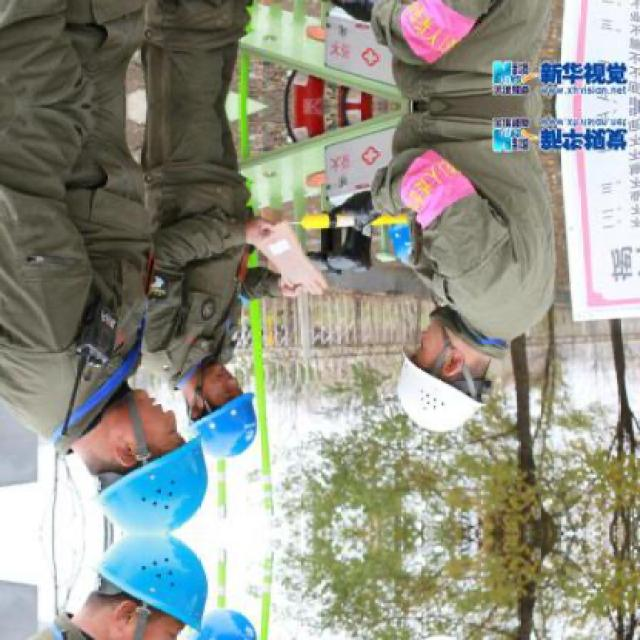con casco: (62, 399, 210, 541), (389, 292, 514, 448), (178, 392, 266, 472)
